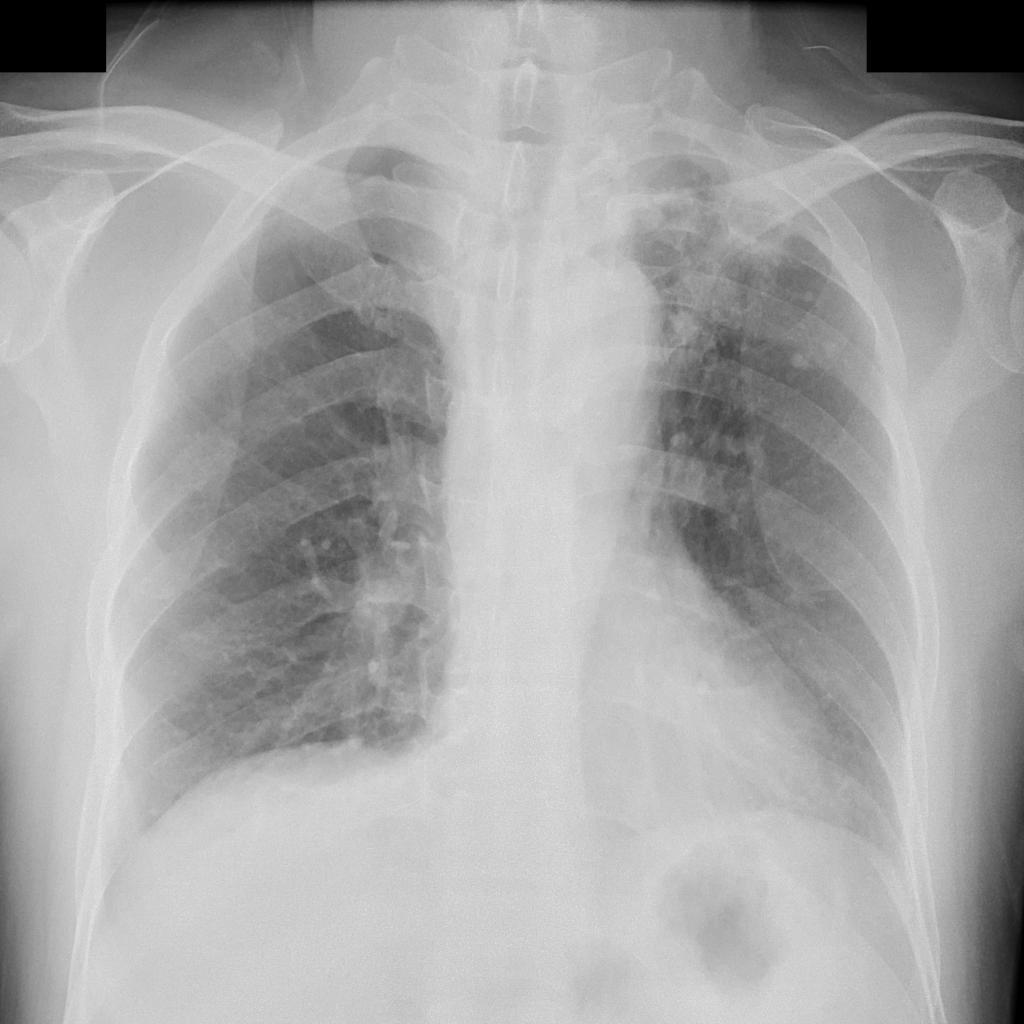Nodule: (790, 339, 842, 373)
